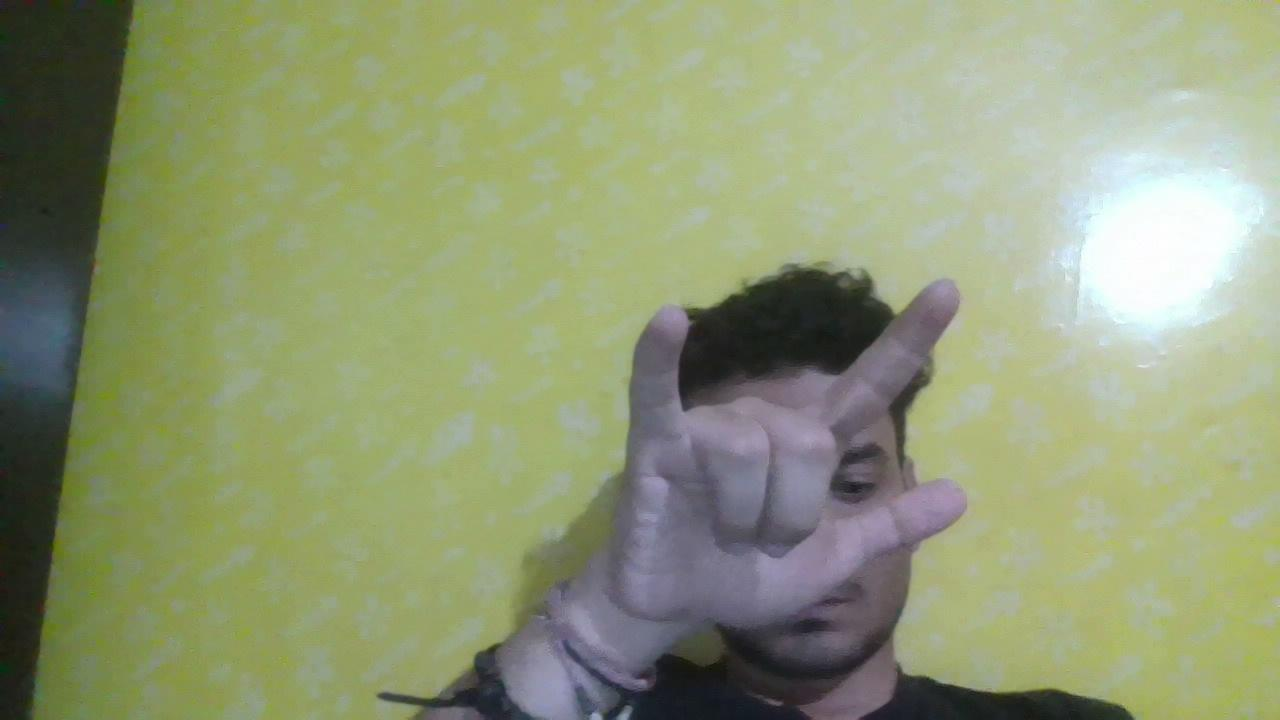Loveyou: (533, 187, 1027, 688)
